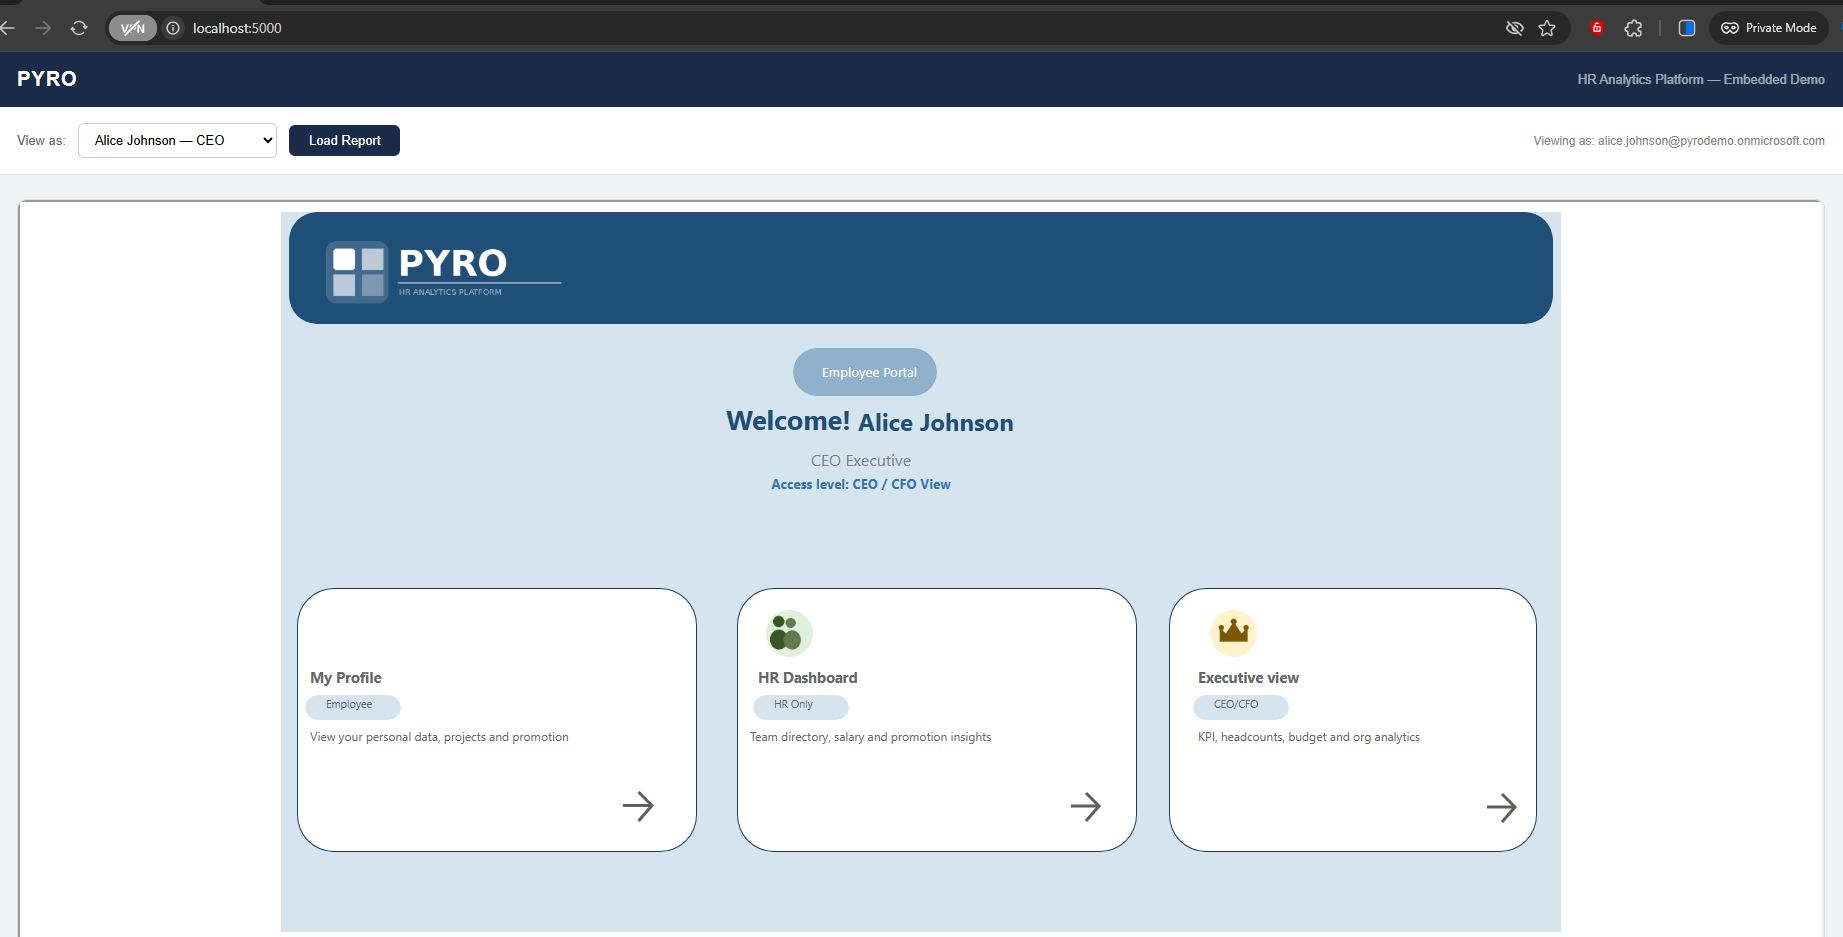

What the dashboard file says about the page in this screenshot:
{"tool":"powerbi","page":{"name":"Employee Portal","canvas":[1280,720],"ordinal":0},"visuals":[{"type":"shape","box":[8,0,1264,112],"z":0,"group":"g3"},{"type":"shape","box":[512,136,144,48],"z":0,"group":"g5"},{"type":"group","id":"g1","title":"Group 4","box":[440,184,360,72],"z":0},{"type":"multiRowCard","fields":{"Values":["_Measure.Employee Name cardMy Name"]},"box":[568,184,232,72],"z":0,"group":"g1"},{"type":"image","box":[24,392.5,72,57.8],"z":0,"group":"g8"},{"type":"shape","box":[24,483.2,96,24.8],"z":0,"group":"g2"},{"type":"shape","box":[472,483.2,96,24.8],"z":0,"group":"g6"},{"type":"shape","box":[912,483.2,96,24.8],"z":0,"group":"g7"},{"type":"image","box":[40,0,318.5,120],"z":1000,"group":"g3"},{"type":"textbox","box":[440,184,148,48],"z":1000,"group":"g1"},{"type":"shape","box":[8,376,400,264],"z":1000,"group":"g8"},{"type":"group","id":"g2","title":"Group 5","box":[24,475,96,41.2],"z":1000,"group":"g8"},{"type":"textbox","box":[40,475,64,41.2],"z":1000,"group":"g2"},{"type":"textbox","box":[488,475,64,41.2],"z":1000,"group":"g6"},{"type":"textbox","box":[928,475,64,41.2],"z":1000,"group":"g7"},{"type":"textbox","box":[24,508,312,66],"z":2000,"group":"g8"},{"type":"actionButton","box":[1200,568,80,40],"z":2000,"group":"g8"},{"type":"group","id":"g3","title":"Group 1","box":[8,0,1264,120],"z":3000},{"type":"textbox","box":[24,450.2,232,49.5],"z":3000,"group":"g8"},{"type":"group","id":"g4","title":"Group 2","box":[440,136,280,176],"z":4000},{"type":"group","id":"g5","title":"Group 3","box":[512,136,152,48],"z":4000,"group":"g4"},{"type":"actionButton","box":[336,574,96,41.2],"z":4000,"group":"g8"},{"type":"shape","box":[456,376,400,264],"z":5000,"group":"g8"},{"type":"card","fields":{"Values":["_Measure.Job title + dept"]},"box":[440,232,280,56],"z":6000,"group":"g4"},{"type":"shape","box":[896,376,368,264],"z":6000,"group":"g8"},{"type":"card","fields":{"Values":["_Measure.Access level"]},"box":[464,256,232,56],"z":7000,"group":"g4"},{"type":"image","box":[472,392.5,72,57.8],"z":7000,"group":"g8"},{"type":"textbox","box":[472,450.2,320,33],"z":8000,"group":"g8"},{"type":"textbox","box":[464,508,320,49.5],"z":9000,"group":"g8"},{"type":"group","id":"g6","title":"Group 5","box":[472,475,96,41.2],"z":10000,"group":"g8"},{"type":"image","box":[912,392.5,80,57.8],"z":11000,"group":"g8"},{"type":"textbox","box":[912,450.2,160,33],"z":12000,"group":"g8"},{"type":"group","id":"g7","title":"Group 5","box":[912,475,96,41.2],"z":13000,"group":"g8"},{"type":"textbox","box":[912,508,304,33],"z":14000,"group":"g8"},{"type":"actionButton","box":[784,574,40,41.2],"z":15000,"group":"g8"},{"type":"group","id":"g8","title":"Group 6","box":[8,376,1272,264],"z":15001},{"type":"textbox","box":[536,144,128,32],"z":19000,"group":"g5"}]}

Visuals, with their boxes on the page's 1280x720 design canvas (x1, y1, x2, y2). These are canvas units, not pixel positions in the 1843x937 screenshot, which may show the page scaled, cropped or inside an application window:
shape: 8 0 1272 112
shape: 512 136 656 184
"Group 4" group: 440 184 800 256
multiRowCard - _Measure.Employee Name cardMy Name: 568 184 800 256
image: 24 392 96 450
shape: 24 483 120 508
shape: 472 483 568 508
shape: 912 483 1008 508
image: 40 0 358 120
textbox: 440 184 588 232
shape: 8 376 408 640
"Group 5" group: 24 475 120 516
textbox: 40 475 104 516
textbox: 488 475 552 516
textbox: 928 475 992 516
textbox: 24 508 336 574
actionButton: 1200 568 1280 608
"Group 1" group: 8 0 1272 120
textbox: 24 450 256 500
"Group 2" group: 440 136 720 312
"Group 3" group: 512 136 664 184
actionButton: 336 574 432 615
shape: 456 376 856 640
card - _Measure.Job title + dept: 440 232 720 288
shape: 896 376 1264 640
card - _Measure.Access level: 464 256 696 312
image: 472 392 544 450
textbox: 472 450 792 483
textbox: 464 508 784 558
"Group 5" group: 472 475 568 516
image: 912 392 992 450
textbox: 912 450 1072 483
"Group 5" group: 912 475 1008 516
textbox: 912 508 1216 541
actionButton: 784 574 824 615
"Group 6" group: 8 376 1280 640
textbox: 536 144 664 176
